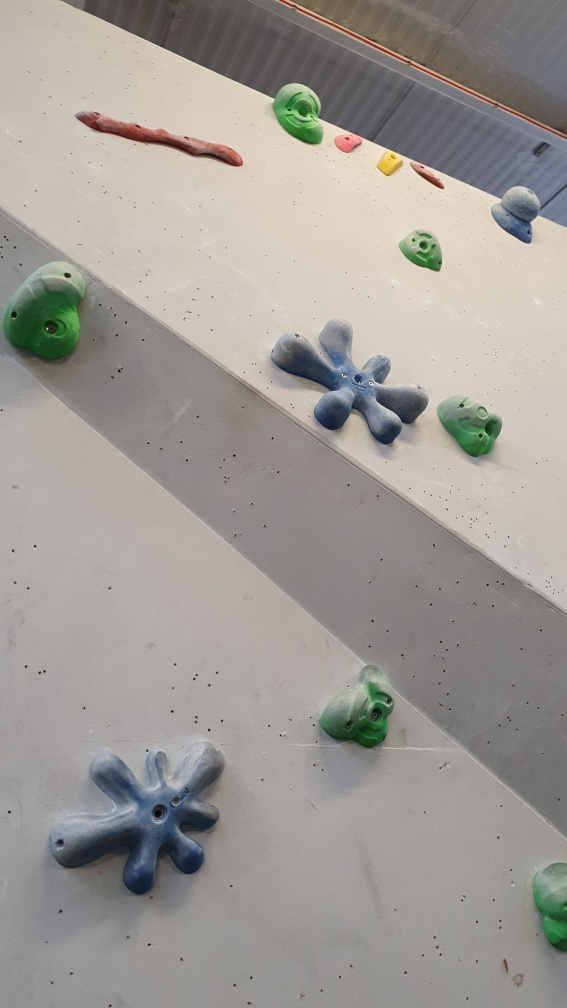Crimp: (411, 159, 447, 192)
Jug: (1, 251, 96, 367), (320, 660, 403, 754), (432, 397, 506, 461), (270, 80, 332, 150), (397, 221, 445, 273)
Octopus Pinch: (50, 739, 228, 898), (275, 315, 427, 444)
Sloper: (486, 184, 544, 247)
